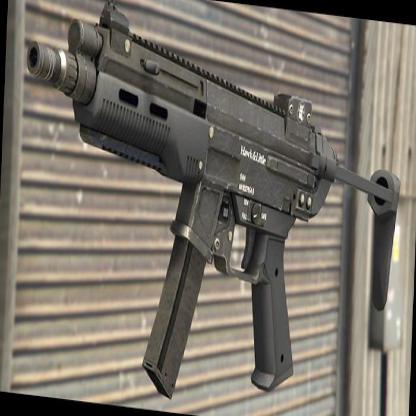rifle: (12, 0, 407, 416)
